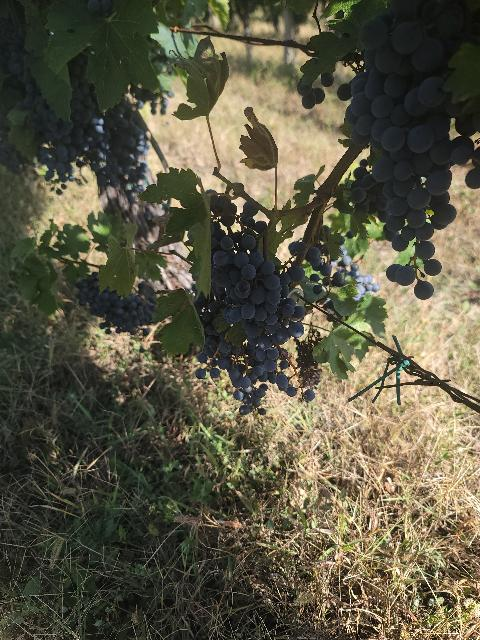grapes: (346, 0, 480, 299), (1, 10, 149, 202), (195, 234, 305, 415), (305, 244, 380, 316), (76, 272, 155, 335), (318, 300, 322, 304)
